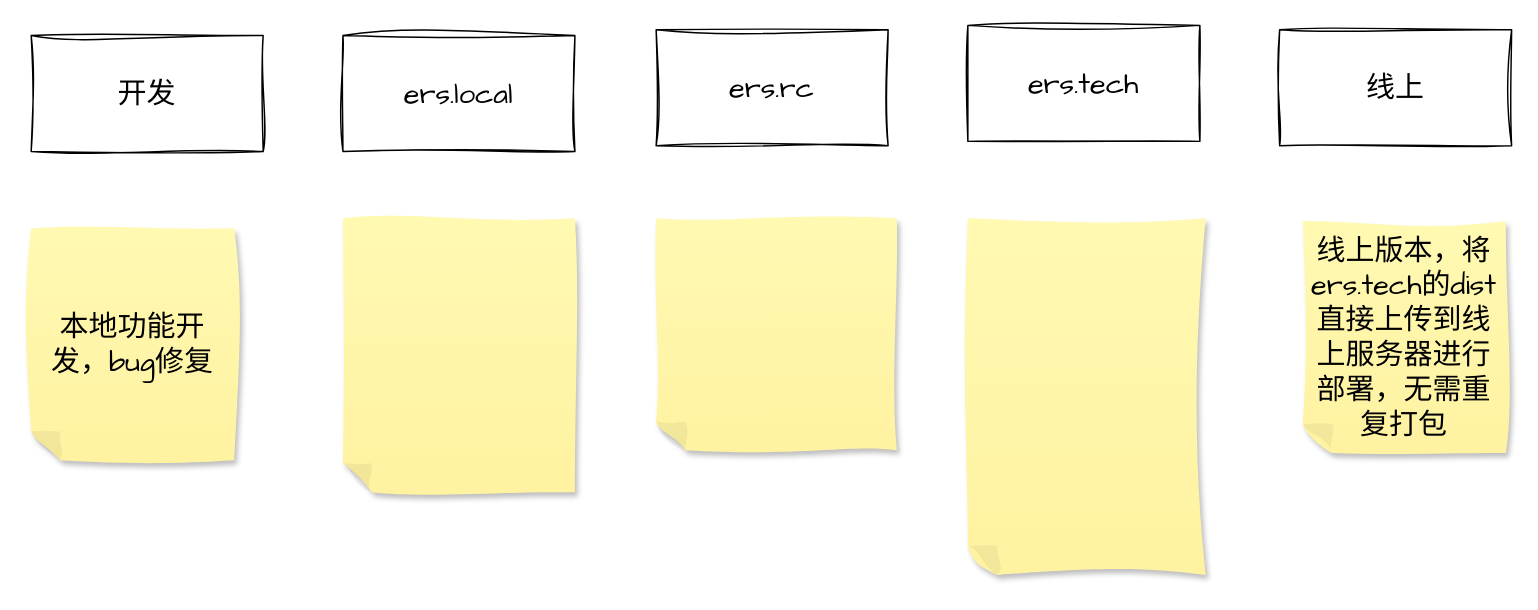
Some shapes in this 1538 by 610 pixel diagram are drawn without their labels. The shapes that lost their labels are listed below. From the top down, each one's centre as x and y in pixels, then its label:
point (777, 336): 在ers.local测试完成后，推送到rc进行测试，此环境对接的是线上接口，线上数据。
point (459, 357): 对接6.5的测试接口；开发完成第一版测试后，部署到此环境，此版本数据、接口都是测试版本
point (1087, 398): ers.rc测试通过。准备上线阶段， 此环境跟线上的打包命令一直，接口nginx配置也一致。 可以理解为上线前的预览版本
